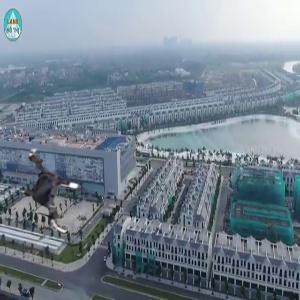drone: (5, 147, 94, 236)
